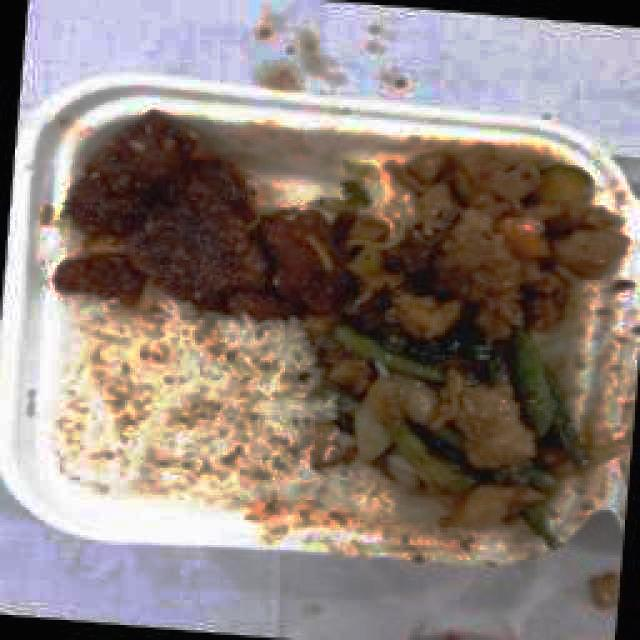Beijing Beef: (76, 157, 580, 299)
rice: (44, 324, 302, 482)
